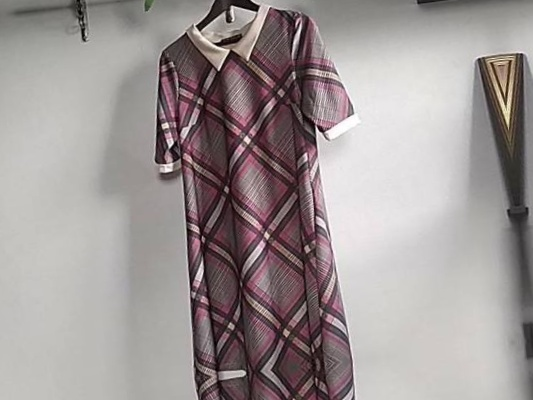Dress: (130, 0, 400, 379), (173, 359, 443, 400)
